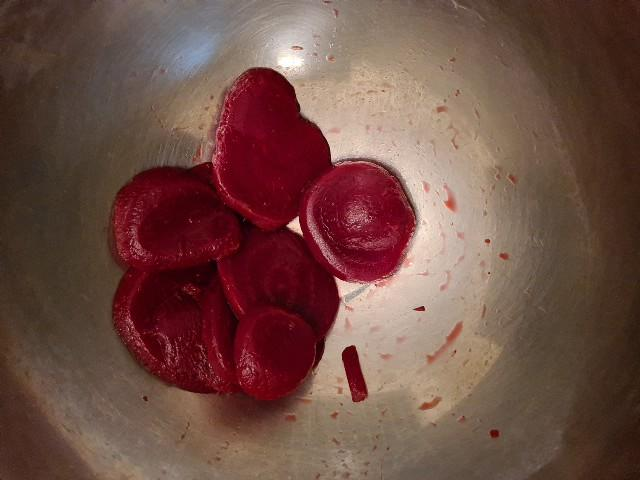kichen waste: (114, 69, 415, 401)
